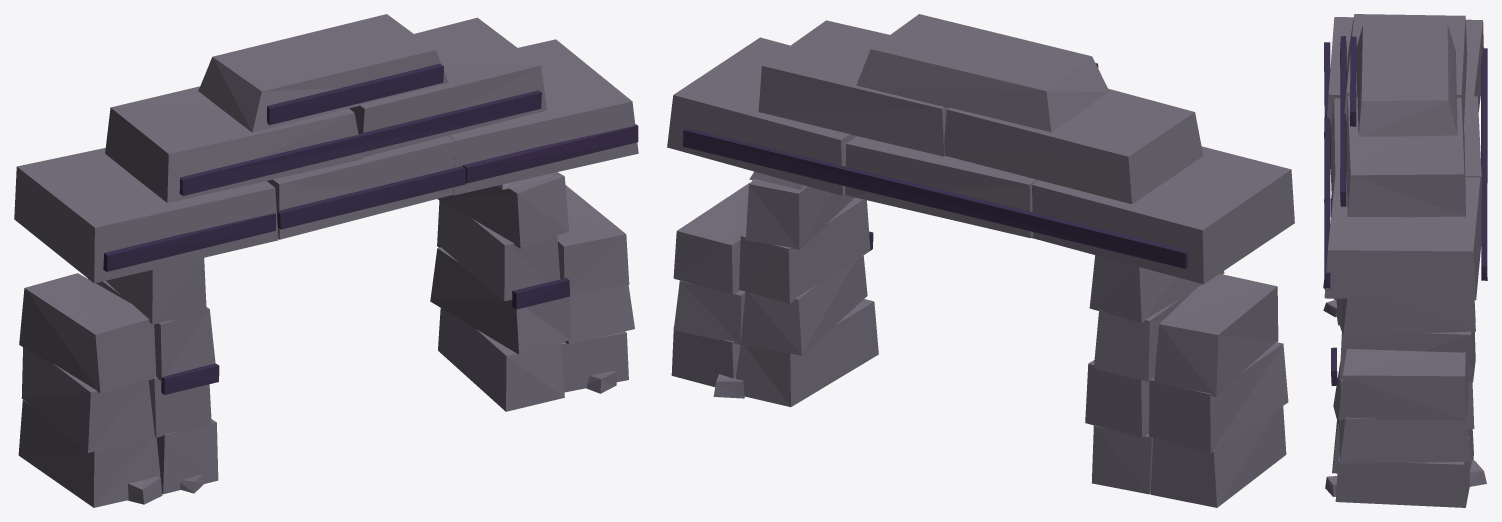
Rendered from CR_Archway.fbx.
The picture shows the model from 3 angles, left to right: view 1: azimuth 30°, elevation 25°; view 2: azimuth 150°, elevation 25°; view 3: azimuth 270°, elevation 25°; orthographic projection. The views are drawn at different scales.
Visible parts, largest first — view 1: CR_Archway_Stone, CR_Archway_Trim; view 2: CR_Archway_Stone, CR_Archway_Trim; view 3: CR_Archway_Stone, CR_Archway_Trim.
Part boxes in pixels (left/top/right/bottom): CR_Archway_Stone: left=14, top=14, right=638, bottom=507; CR_Archway_Trim: left=103, top=64, right=638, bottom=394; CR_Archway_Stone: left=667, top=14, right=1294, bottom=507; CR_Archway_Trim: left=683, top=63, right=1187, bottom=268; CR_Archway_Stone: left=1323, top=14, right=1486, bottom=507; CR_Archway_Trim: left=1324, top=36, right=1487, bottom=385.
Bounding box in the file's own units: 28.36 × 18.1 × 8.29.
